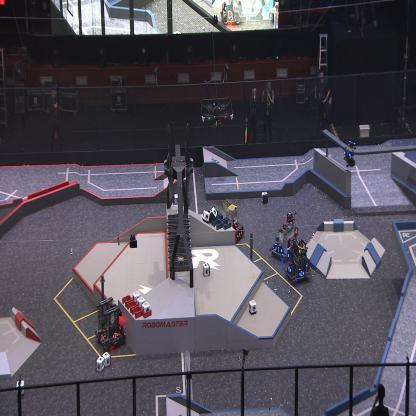car: (94, 294, 126, 350), (286, 240, 312, 286), (270, 220, 296, 264), (221, 199, 245, 244), (280, 210, 298, 240)
